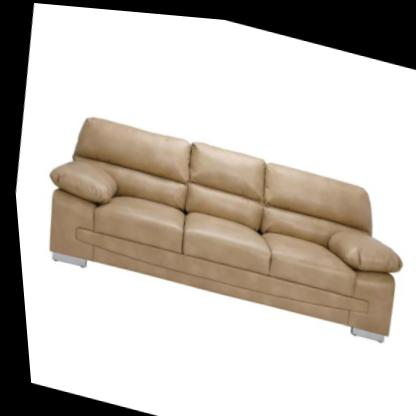Sofa: (29, 101, 416, 349)
